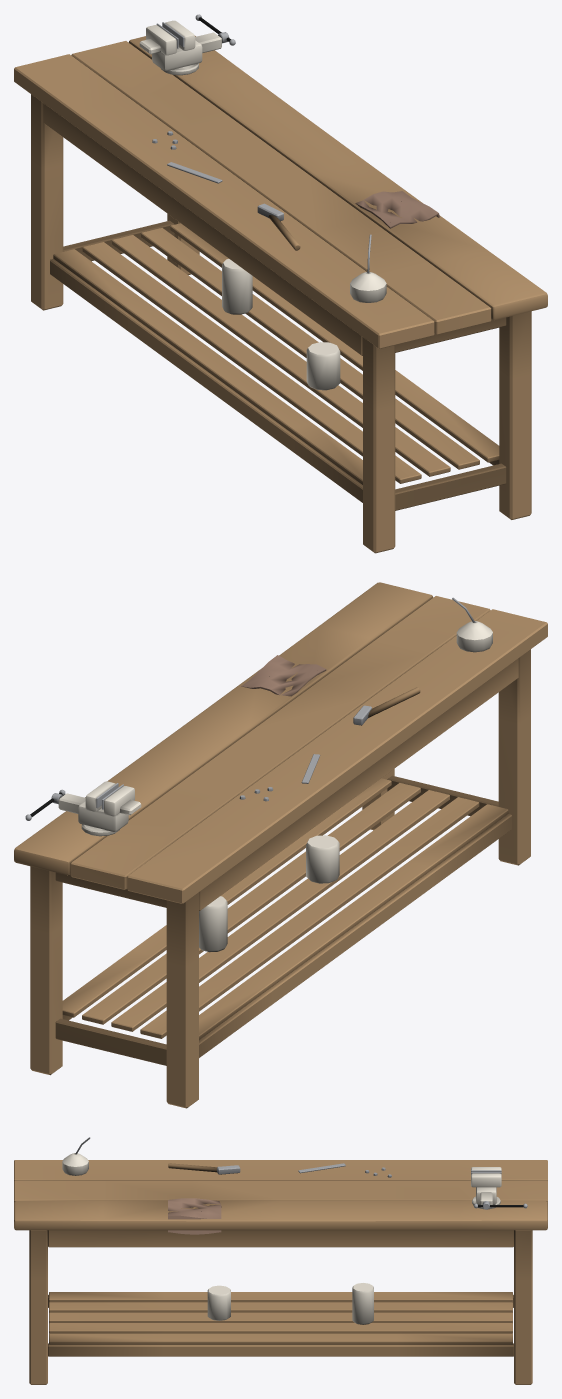
File: workbench_old.glb
3 views of the same model, one above another, from view 1: azimuth 30°, elevation 25°; view 2: azimuth 150°, elevation 25°; view 3: azimuth 270°, elevation 25° (orthographic). The views are drawn at different scales.
Parts seen in each view (by area): view 1: PART; view 2: PART; view 3: PART.
Part boxes in pixels (x1=…): PART: x1=14, y1=14, x2=547, y2=553; PART: x1=14, y1=582, x2=547, y2=1108; PART: x1=14, y1=1137, x2=547, y2=1384.
Bounding box in the file's own units: 0.7094 × 1.1 × 2.6.
